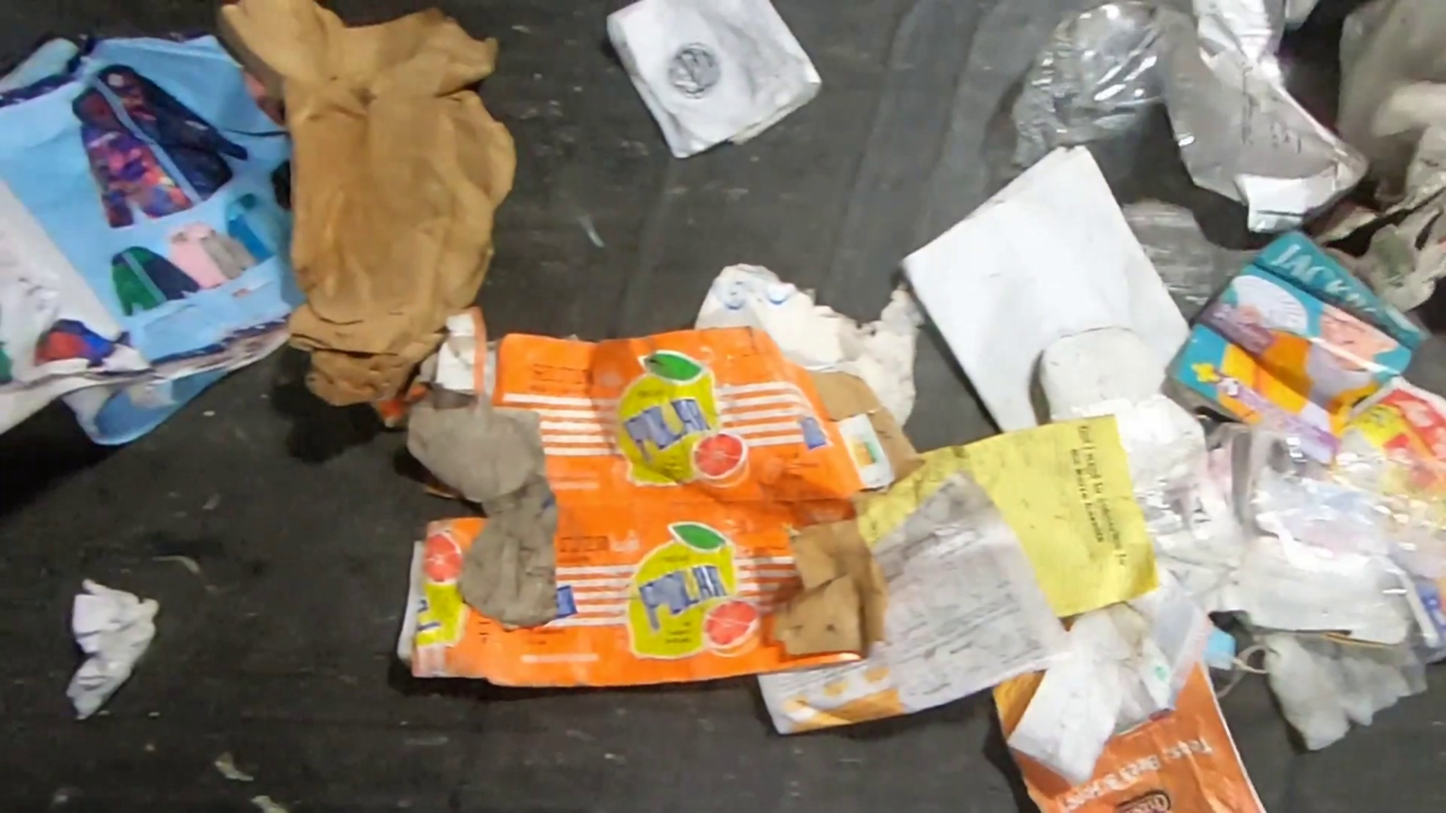cardboard: (371, 300, 930, 690), (213, 0, 522, 406), (1168, 229, 1437, 430), (692, 261, 927, 428), (1153, 551, 1408, 649), (1036, 327, 1169, 412)
plastic: (1046, 395, 1446, 662), (1007, 0, 1189, 172)
